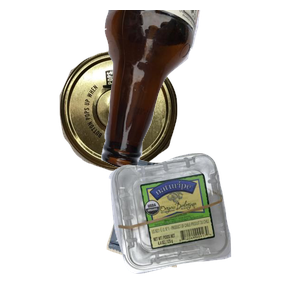glass: (99, 10, 300, 170)
metal: (57, 47, 227, 211)
plastic: (106, 151, 300, 300)
trash: (104, 152, 280, 300)
